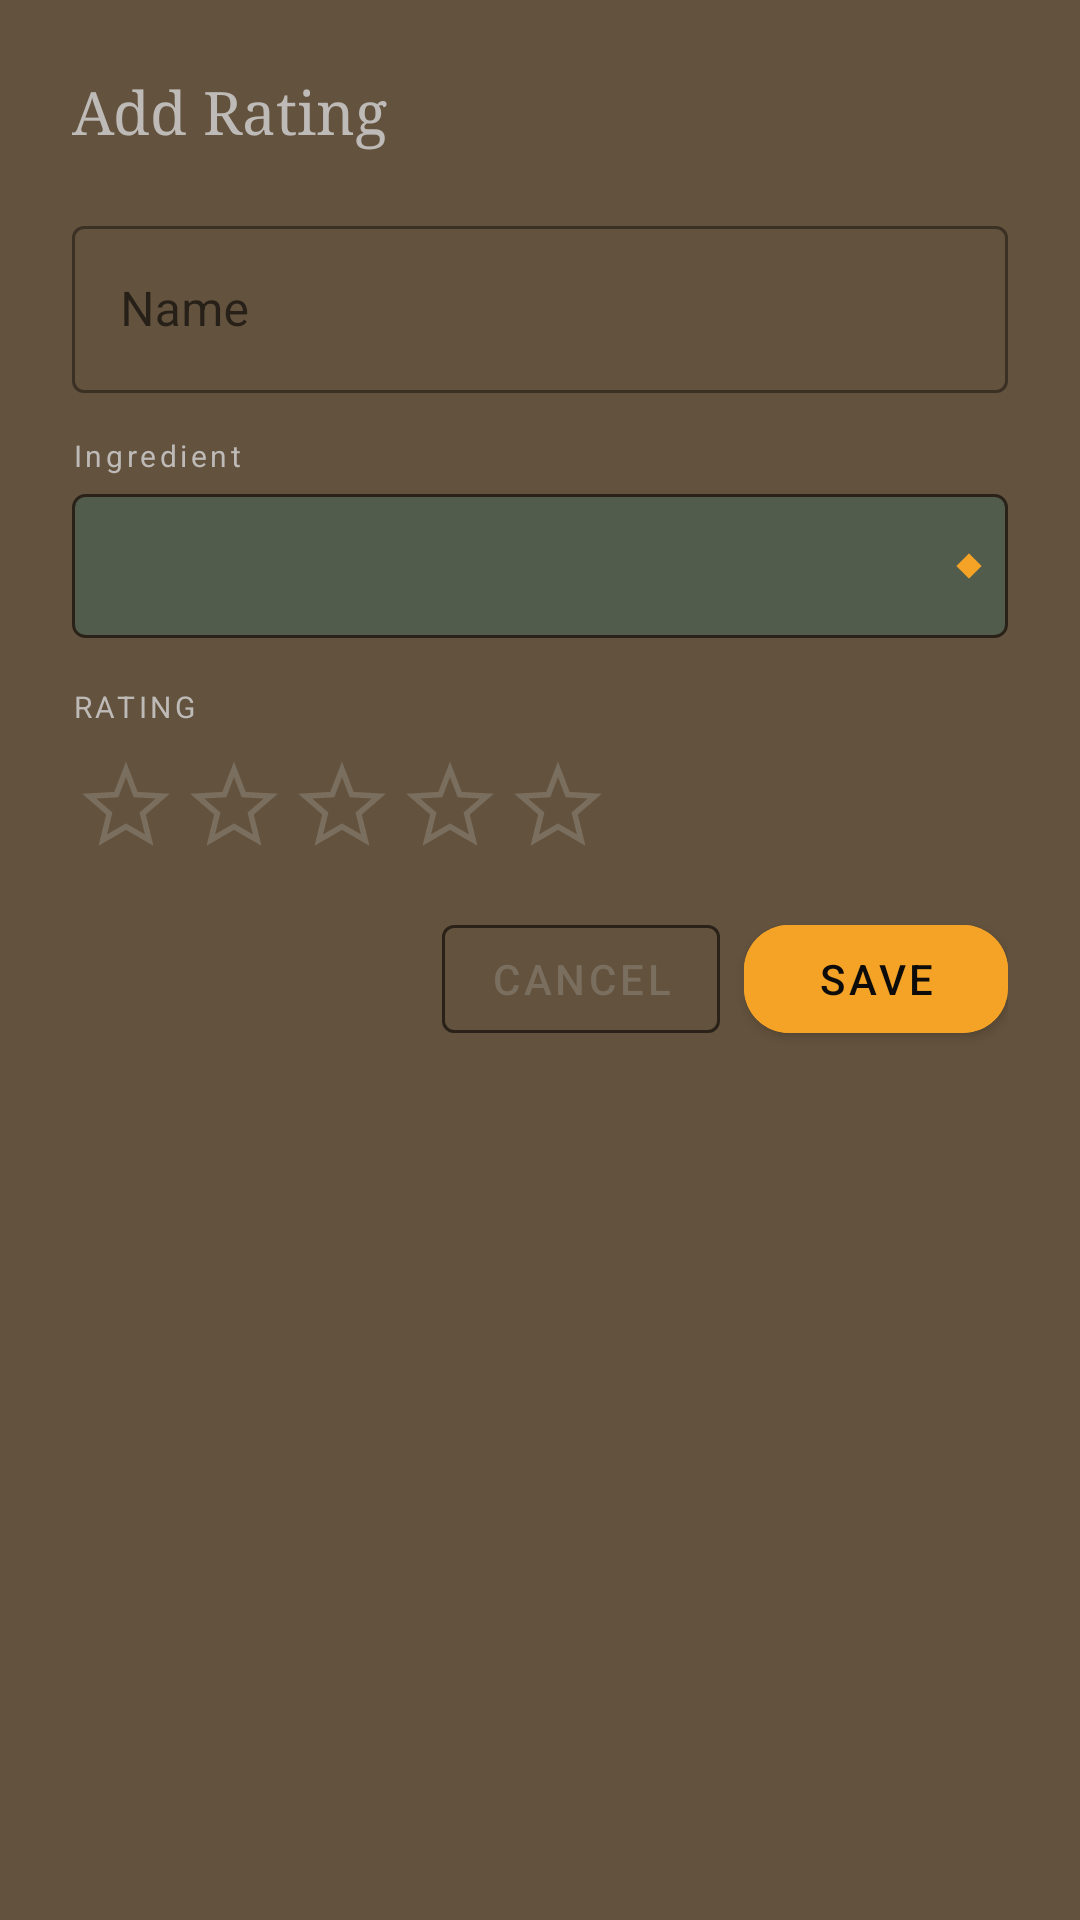

Where icons sit on this 1080w x 1920h app screen, as [left=x1, top=y1, right=x2, bottom=y2]:
1 star: [left=83, top=764, right=169, bottom=845]
2 stars: [left=191, top=764, right=277, bottom=845]
3 stars: [left=299, top=764, right=385, bottom=845]
4 stars: [left=407, top=764, right=493, bottom=845]
5 stars: [left=515, top=764, right=601, bottom=845]
